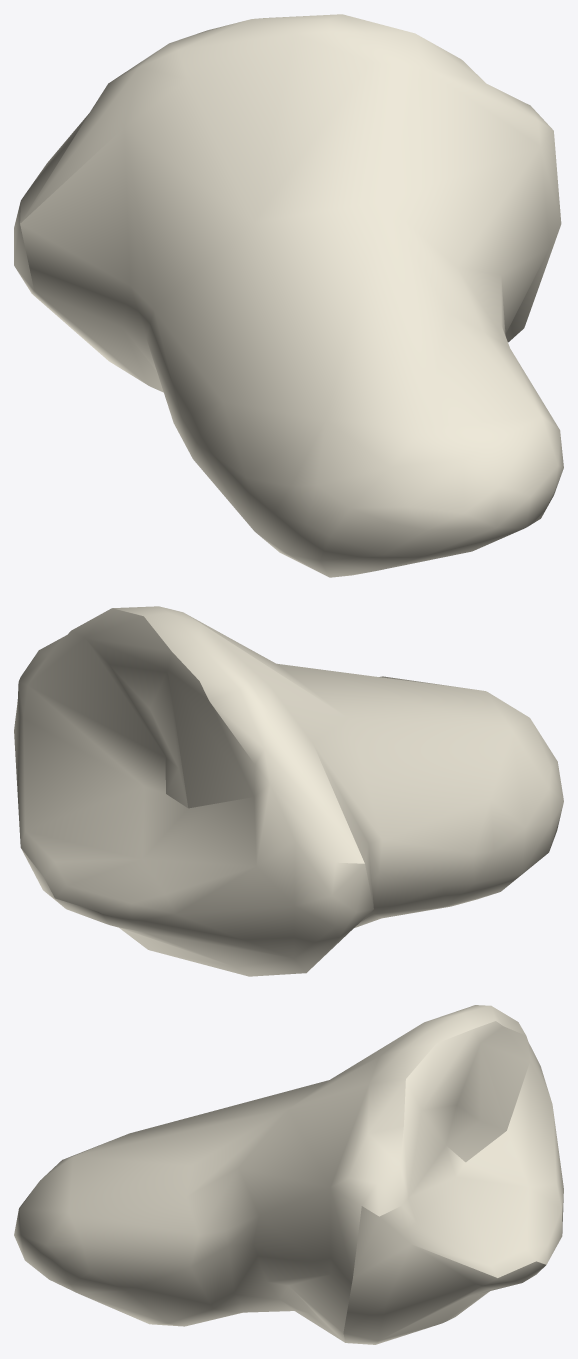
File: fma32656.glb
3 renders of one model, top to bottom at view 1: azimuth 30°, elevation 25°; view 2: azimuth 150°, elevation 25°; view 3: azimuth 270°, elevation 25°, orthographic. The views are drawn at different scales.
Visible parts, largest first — view 1: FMA32656; view 2: FMA32656; view 3: FMA32656.
Part boxes in pixels (x1,y1,x2,y2): FMA32656: (14, 14, 563, 577); FMA32656: (14, 606, 563, 976); FMA32656: (14, 1005, 563, 1344).
Bounding box in the file's own units: 0.00856 × 0.00715 × 0.0113.
